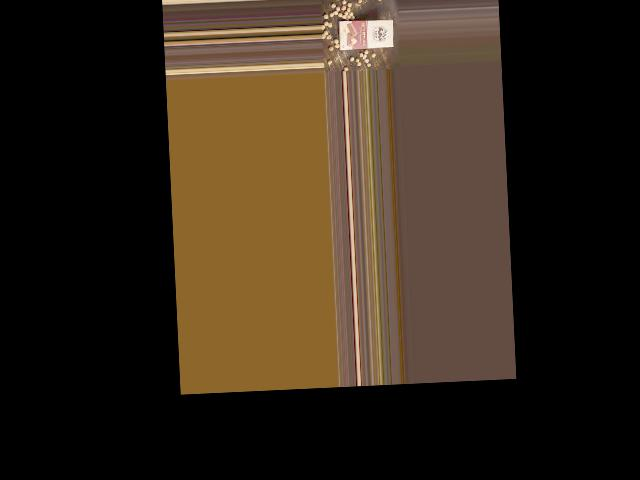chocolate: (337, 16, 395, 51)
